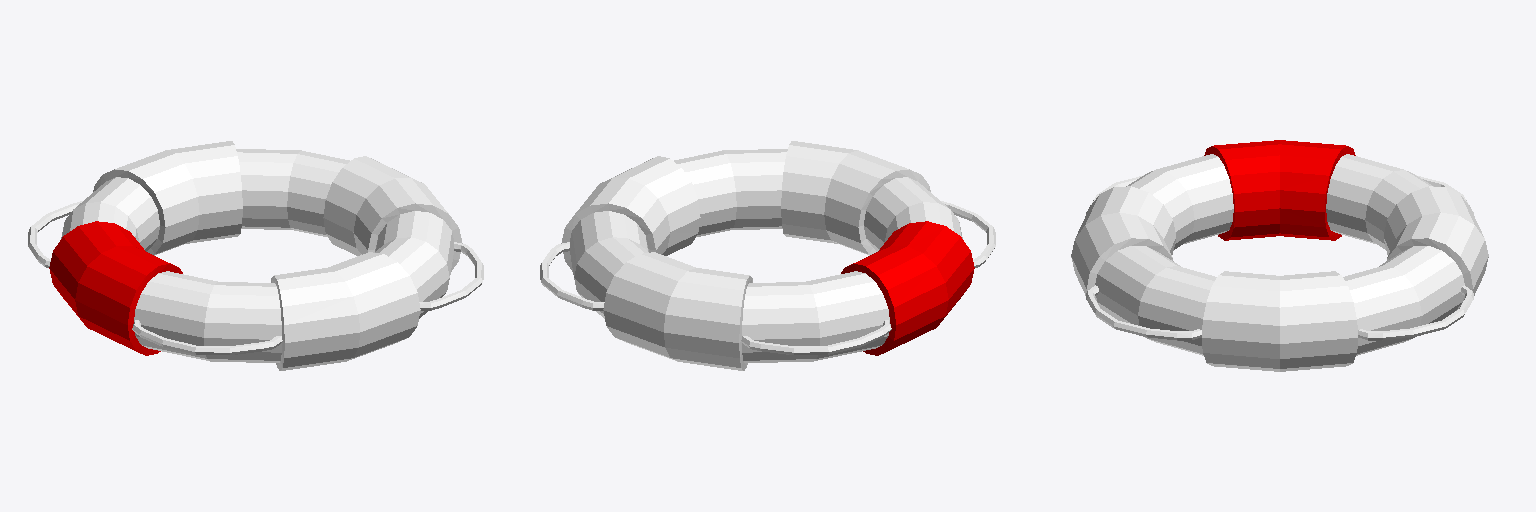
3 views of the same model, side by side, from view 1: azimuth 30°, elevation 25°; view 2: azimuth 150°, elevation 25°; view 3: azimuth 270°, elevation 25° (orthographic).
Parts seen in each view (by area): view 1: Torus; view 2: Torus; view 3: Torus.
Boxes of the visible parts, x1=… form: Torus: x1=28, y1=141, x2=483, y2=370; Torus: x1=540, y1=141, x2=995, y2=370; Torus: x1=1071, y1=140, x2=1488, y2=371.
Size of the model in its own units: 1 by 0.2307 by 1.
Materials: 1 (1 with a texture image).